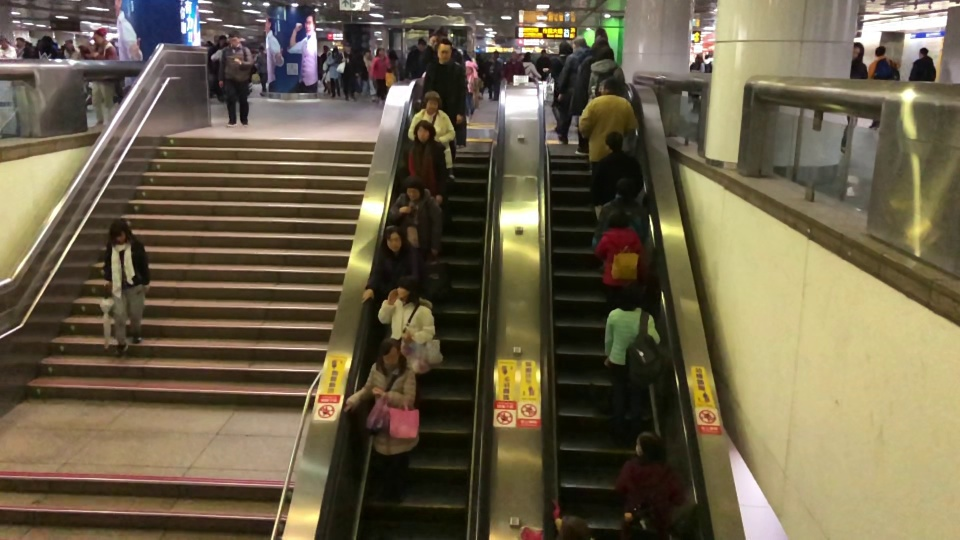person_head: (633, 430, 663, 456), (559, 515, 590, 540), (617, 284, 641, 311), (379, 338, 402, 366), (396, 275, 420, 299), (383, 225, 404, 252), (615, 177, 639, 200), (413, 119, 436, 142), (109, 218, 131, 242), (422, 89, 442, 115), (607, 208, 630, 230), (404, 175, 424, 199), (604, 130, 623, 151), (600, 77, 620, 95), (436, 39, 452, 61), (592, 34, 610, 49), (596, 46, 615, 59), (852, 41, 864, 60), (228, 30, 240, 46), (93, 29, 106, 43), (571, 37, 586, 49), (558, 41, 570, 54), (874, 44, 886, 57), (40, 36, 51, 47), (918, 46, 929, 57), (417, 38, 426, 51), (0, 35, 8, 48), (375, 46, 385, 56), (16, 37, 25, 47), (65, 38, 73, 47), (342, 42, 350, 51), (511, 51, 518, 61), (523, 53, 531, 61), (694, 54, 702, 62), (364, 49, 372, 56), (463, 54, 470, 62), (704, 53, 711, 60), (258, 45, 264, 53), (493, 50, 498, 57), (541, 48, 545, 56)
person_vbox: (342, 338, 421, 505), (602, 284, 662, 446), (612, 430, 687, 540), (100, 218, 151, 357), (422, 40, 465, 179), (594, 208, 649, 312), (578, 77, 639, 170), (359, 225, 419, 307), (588, 131, 641, 219), (574, 34, 610, 156), (591, 177, 649, 252), (377, 275, 436, 348), (390, 175, 443, 256), (407, 89, 454, 172), (217, 30, 255, 127), (556, 37, 589, 146), (405, 120, 447, 204), (840, 41, 869, 154), (85, 29, 118, 128), (867, 45, 901, 128), (588, 46, 623, 95), (369, 46, 390, 104), (337, 42, 356, 100), (907, 47, 937, 82), (463, 53, 479, 118), (404, 37, 426, 80), (550, 41, 570, 79), (502, 51, 524, 83), (255, 45, 268, 95), (360, 48, 372, 100), (491, 50, 502, 103), (522, 53, 542, 79), (35, 36, 57, 58), (536, 48, 550, 78), (62, 38, 81, 60), (0, 35, 17, 59), (16, 37, 32, 59), (700, 53, 713, 73), (690, 54, 702, 72)
